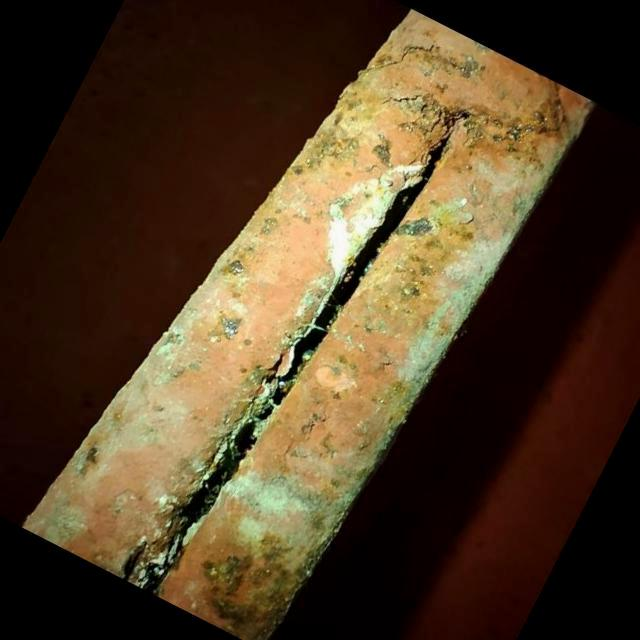defect: (130, 129, 452, 595), (374, 40, 440, 70), (378, 93, 425, 105)
